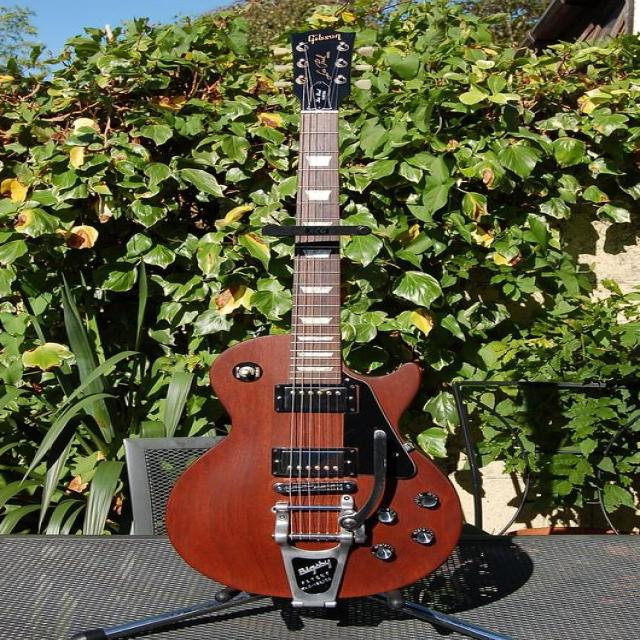guitar: (167, 31, 462, 606)
